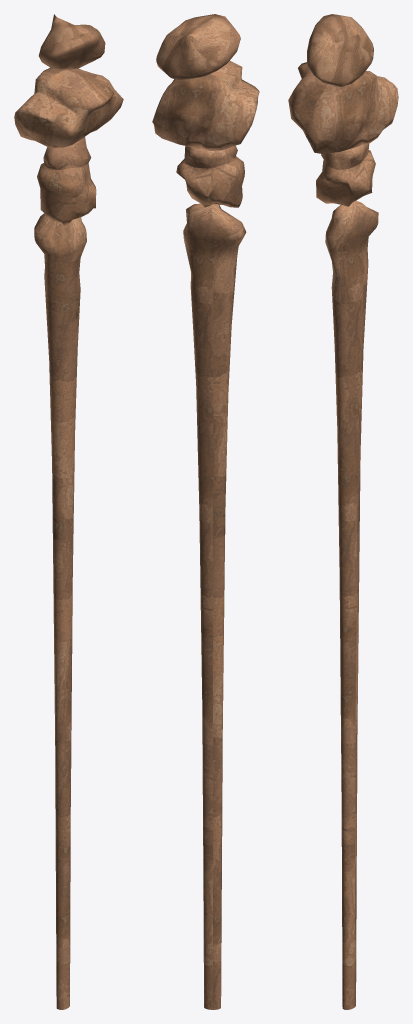
The model's file is Ob_RockPillar2.fbx.
The picture shows the model from 3 angles, left to right: view 1: azimuth 90°, elevation 25°; view 2: azimuth 210°, elevation 25°; view 3: azimuth 270°, elevation 25°; orthographic projection.
Parts seen in each view (by area): view 1: Ob_RockPillar2; view 2: Ob_RockPillar2; view 3: Ob_RockPillar2.
Boxes of the visible parts, box(x1,y1,x2,y2) form: Ob_RockPillar2: box(14, 14, 123, 1009); Ob_RockPillar2: box(152, 14, 259, 1009); Ob_RockPillar2: box(288, 14, 398, 1009).
Size of the model in its own units: 9313 by 96532 by 9769.
